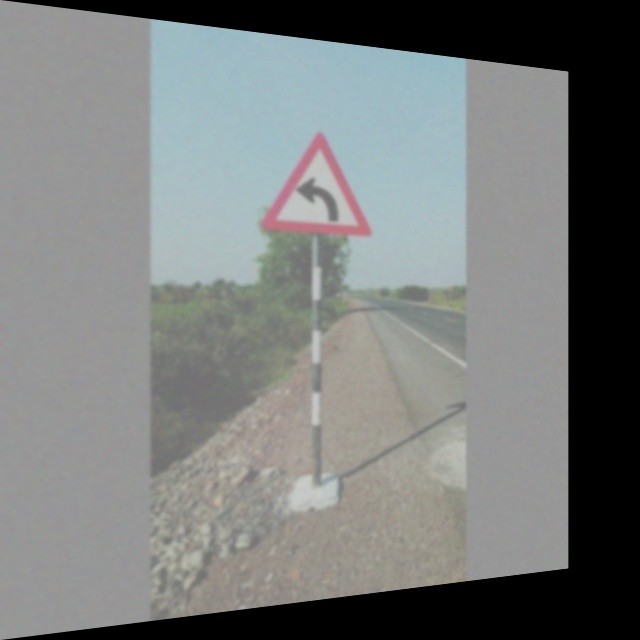Left_Hand_Curve: (267, 123, 368, 242)
